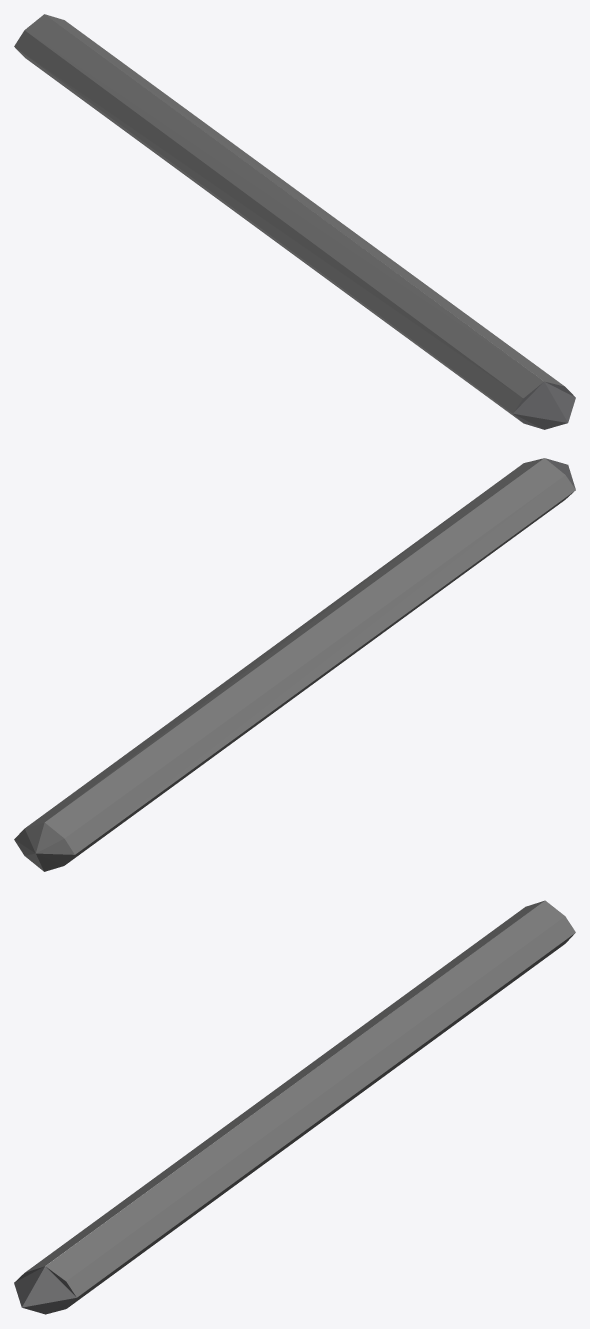
Rendered from Missile.obj.
3 renders of one model, top to bottom at view 1: azimuth 30°, elevation 25°; view 2: azimuth 150°, elevation 25°; view 3: azimuth 330°, elevation 25°, orthographic.
Visible parts, largest first — view 1: Missile_立方体.001; view 2: Missile_立方体.001; view 3: Missile_立方体.001.
Boxes of the visible parts, <box> form: Missile_立方体.001: <box>14,14,575,429</box>; Missile_立方体.001: <box>14,458,575,871</box>; Missile_立方体.001: <box>14,900,575,1314</box>.
Bounding box in the file's own units: 0.1192 × 0.0897 × 1.74.
1 material, 1 textured.
